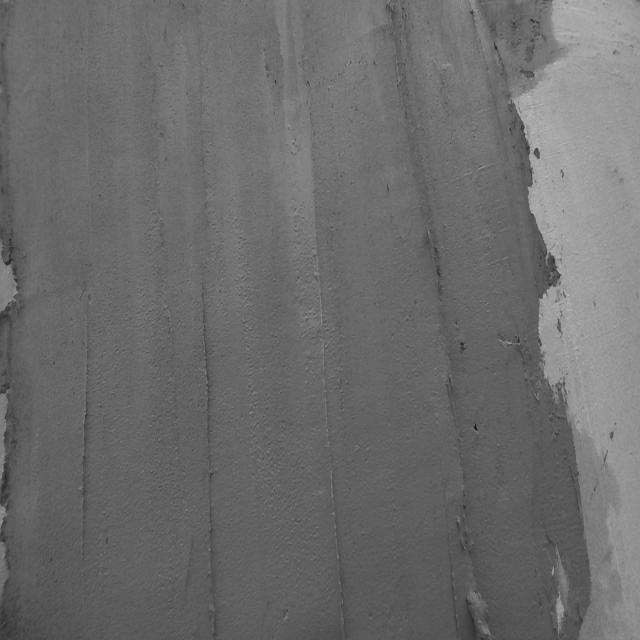trowels marks: (313, 271, 356, 640), (201, 277, 220, 640), (78, 298, 93, 587)
